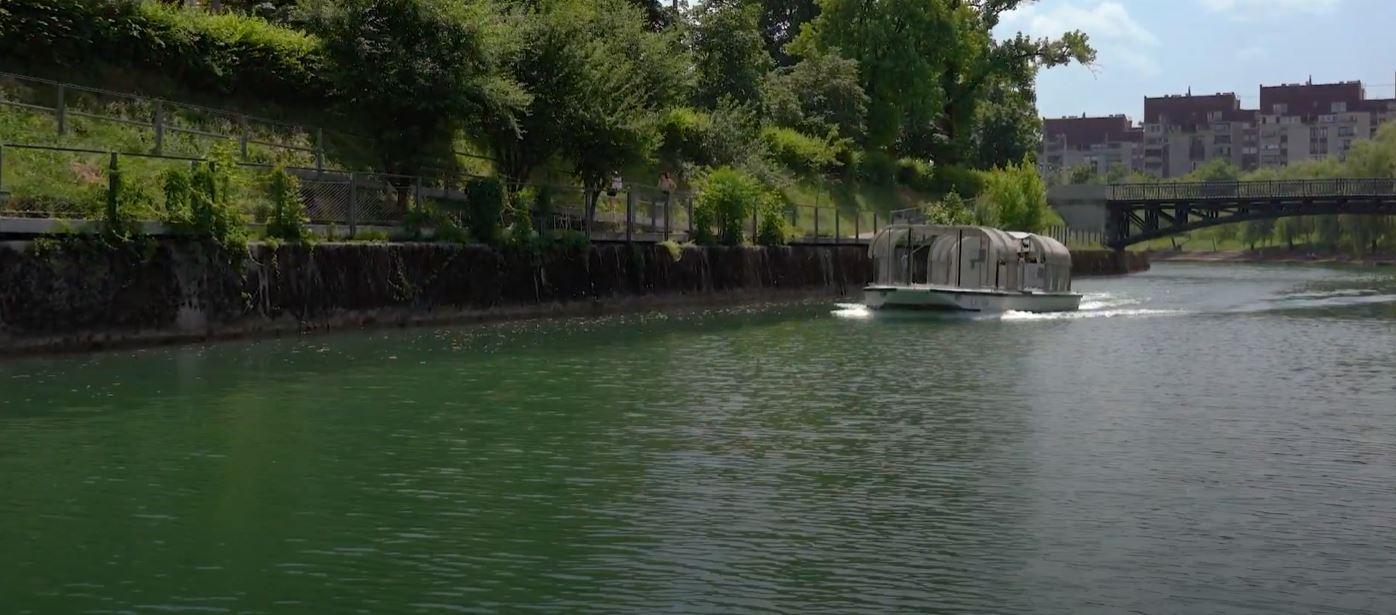Ship: (864, 218, 1090, 318)
